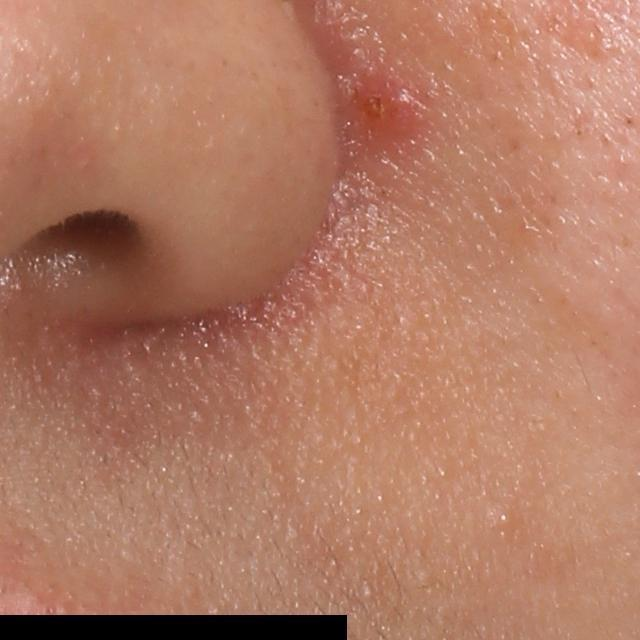comedo: (360, 584, 377, 602)
papule: (341, 62, 437, 147)
